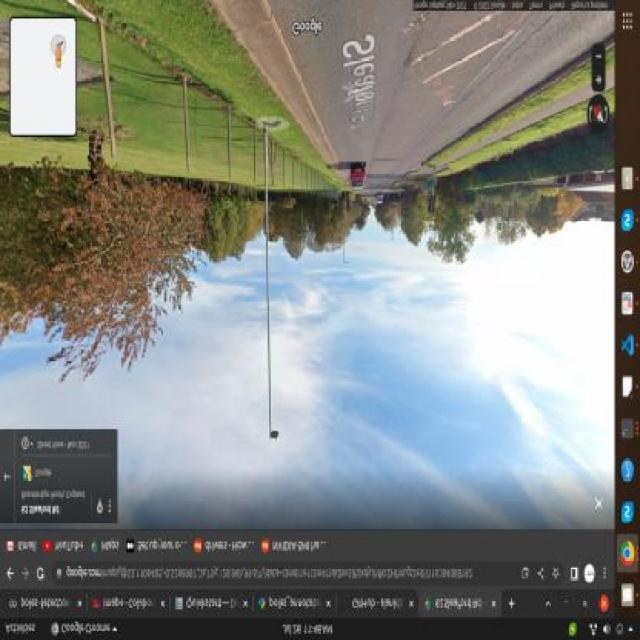pole: (262, 123, 283, 439)
